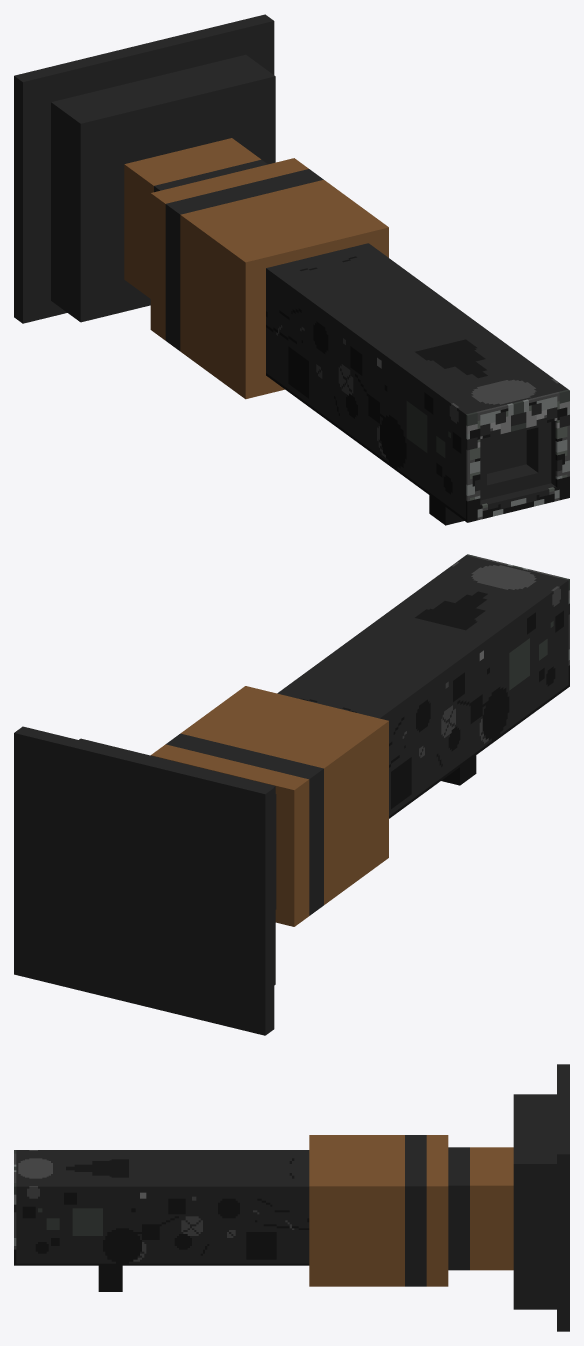
File: Rocket Launcher.glb
The picture shows the model from 3 angles, top to bottom: view 1: azimuth 30°, elevation 25°; view 2: azimuth 150°, elevation 25°; view 3: azimuth 270°, elevation 25°; orthographic projection. The views are drawn at different scales.
Visible parts, largest first — view 1: Rocket Launcher.001; view 2: Rocket Launcher.001; view 3: Rocket Launcher.001.
Part boxes in pixels (x1=…): Rocket Launcher.001: x1=14, y1=14, x2=569, y2=525; Rocket Launcher.001: x1=14, y1=554, x2=569, y2=1035; Rocket Launcher.001: x1=14, y1=1064, x2=569, y2=1331.
Size of the model in its own units: 0.784 by 0.72 by 2.05.
1 material, 1 textured.
